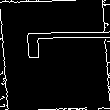L_E: (1, 39, 109, 71)
